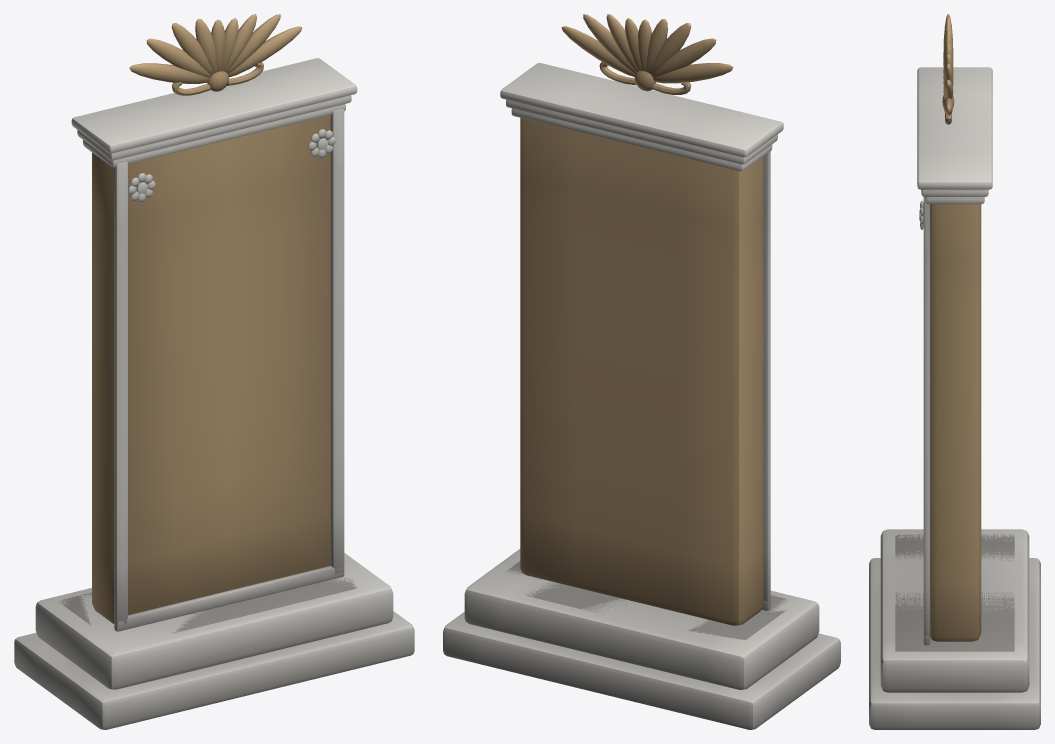
The model's file is obj_kit_stele.glb.
The picture shows the model from 3 angles, left to right: view 1: azimuth 30°, elevation 25°; view 2: azimuth 150°, elevation 25°; view 3: azimuth 270°, elevation 25°; orthographic projection. The views are drawn at different scales.
Parts seen in each view (by area): view 1: Cube.003, Cube.001, Cube, Cube.009, Cube.005, Cube.004, Cube.006, Cube.002, Cube.008, Cube.007, Sphere, Sphere.008 (+3 smaller); view 2: Cube.003, Cube.001, Cube, Cube.009, Cube.004, Cube.002, Cube.008, Cube.007, Sphere, Sphere.008, Sphere.001, Sphere.002 (+1 smaller); view 3: Cube.003, Cube.001, Cube, Cube.009, Cube.002, Cube.005, Cube.008, Cube.007.
Boxes of the visible parts, bbox=[...] form: Cube.003: bbox=[92, 115, 330, 623]; Cube.001: bbox=[35, 553, 393, 689]; Cube: bbox=[14, 611, 414, 729]; Cube.009: bbox=[71, 58, 357, 153]; Cube.005: bbox=[330, 109, 344, 574]; Cube.004: bbox=[114, 161, 127, 627]; Cube.006: bbox=[114, 566, 344, 631]; Cube.002: bbox=[57, 577, 356, 633]; Cube.008: bbox=[77, 95, 351, 160]; Cube.007: bbox=[83, 104, 345, 167]; Sphere: bbox=[129, 63, 209, 83]; Sphere.008: bbox=[228, 26, 302, 77]; Cube.003: bbox=[520, 117, 763, 625]; Cube.001: bbox=[464, 549, 819, 689]; Cube: bbox=[443, 612, 840, 729]; Cube.009: bbox=[500, 63, 783, 157]; Cube.004: bbox=[763, 151, 770, 606]; Cube.002: bbox=[506, 561, 786, 639]; Cube.008: bbox=[506, 99, 777, 164]; Cube.007: bbox=[511, 108, 772, 171]; Sphere: bbox=[653, 63, 733, 83]; Sphere.008: bbox=[561, 26, 635, 76]; Sphere.001: bbox=[651, 38, 716, 77]; Sphere.002: bbox=[649, 23, 691, 74]; Cube.003: bbox=[930, 204, 981, 641]; Cube.001: bbox=[880, 529, 1029, 692]; Cube: bbox=[869, 558, 1040, 729]; Cube.009: bbox=[917, 67, 992, 189]; Cube.002: bbox=[895, 534, 1014, 651]; Cube.005: bbox=[923, 197, 930, 641]; Cube.008: bbox=[921, 189, 988, 196]; Cube.007: bbox=[925, 197, 984, 204].
Size of the model in its own units: 1.05 by 2.08 by 0.52.
